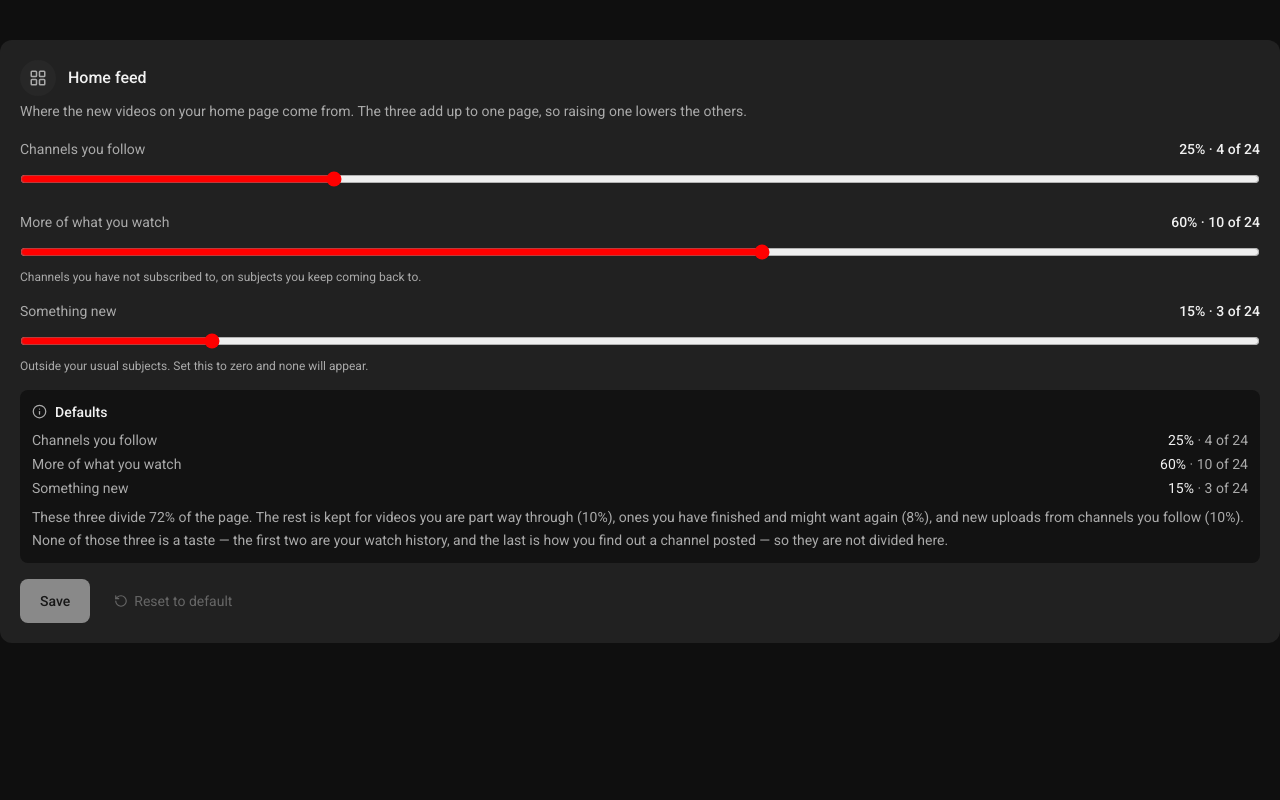
it: FeedMixSettings › says so when the save fails
Set the slider labelled "Something new" to "40" at (518, 341), box [20,329,1260,353]
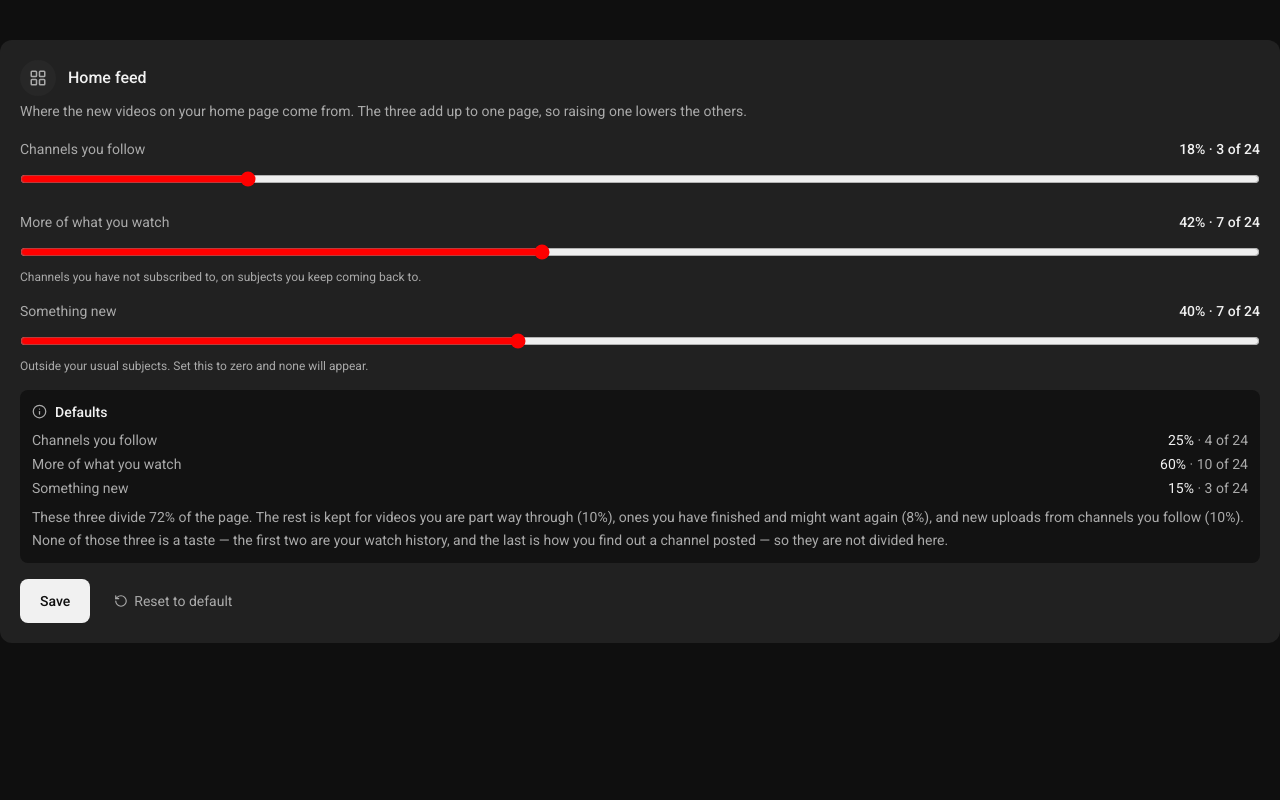
Click the button "Save" at (55, 601), box [20,579,90,623]
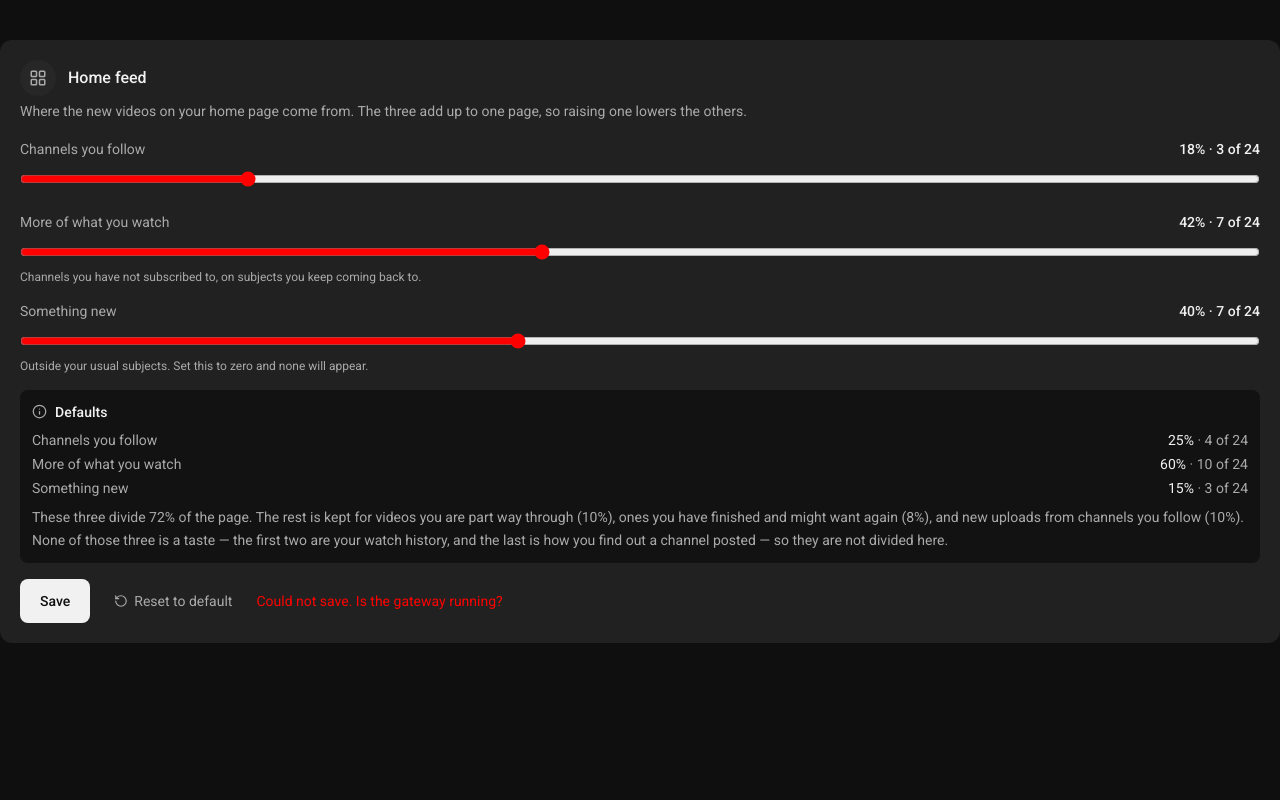
Now the text "Could not save. Is the gateway running?" is shown, box [256,591,503,611]
